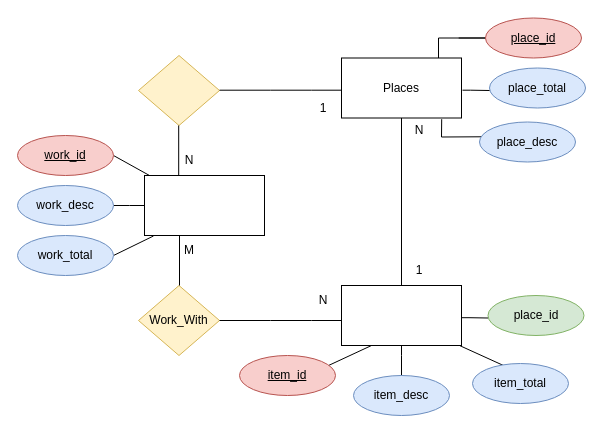
Some shapes in this 603 by 433 pixel diagram are drawn without their labels. The centre of each missing label's shape, as x and y in pixels:
"Itens" goes at pixel 401 315.
"Work_In" goes at pixel 179 90.
"Workers" goes at pixel 204 205.
